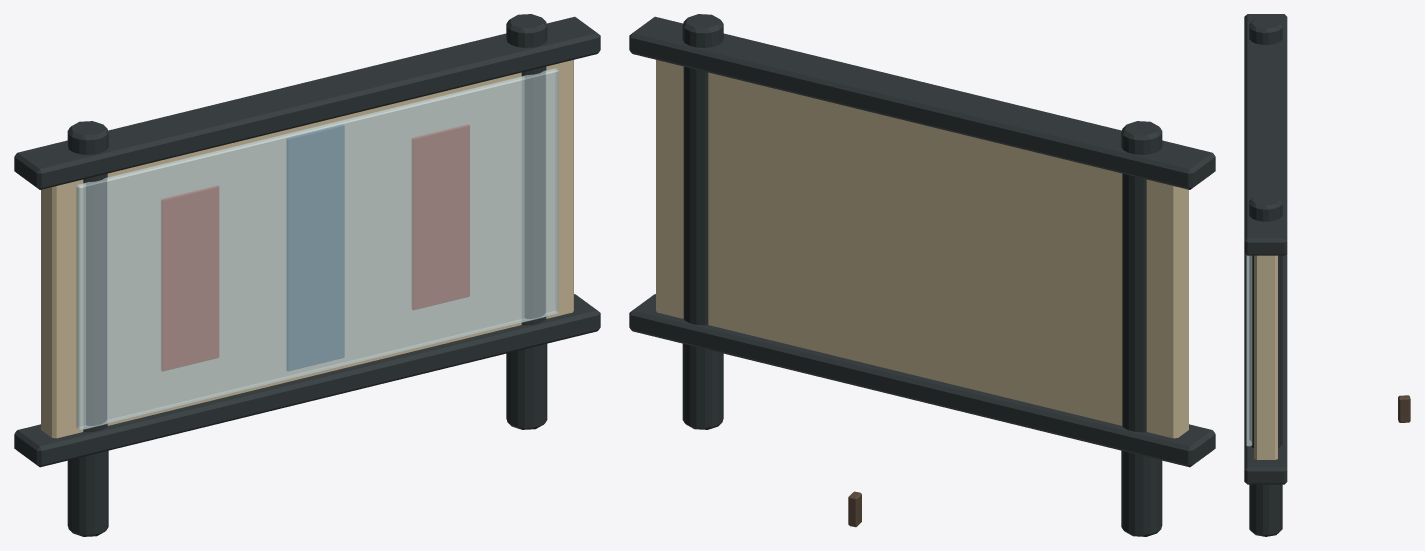
The model's file is runtime.glb.
The picture shows the model from 3 angles, left to right: view 1: azimuth 30°, elevation 25°; view 2: azimuth 150°, elevation 25°; view 3: azimuth 270°, elevation 25°; orthographic projection. The views are drawn at different scales.
Visible parts, largest first — view 1: eiffel-historic-information-v05_nocol; view 2: eiffel-historic-information-v05_nocol; view 3: eiffel-historic-information-v05_nocol.
Boxes of the visible parts, bbox=[...] form: eiffel-historic-information-v05_nocol: bbox=[14, 14, 600, 536]; eiffel-historic-information-v05_nocol: bbox=[629, 14, 1215, 536]; eiffel-historic-information-v05_nocol: bbox=[1244, 14, 1410, 536].
Size of the model in its own units: 2.25 by 1.53 by 0.6948.
